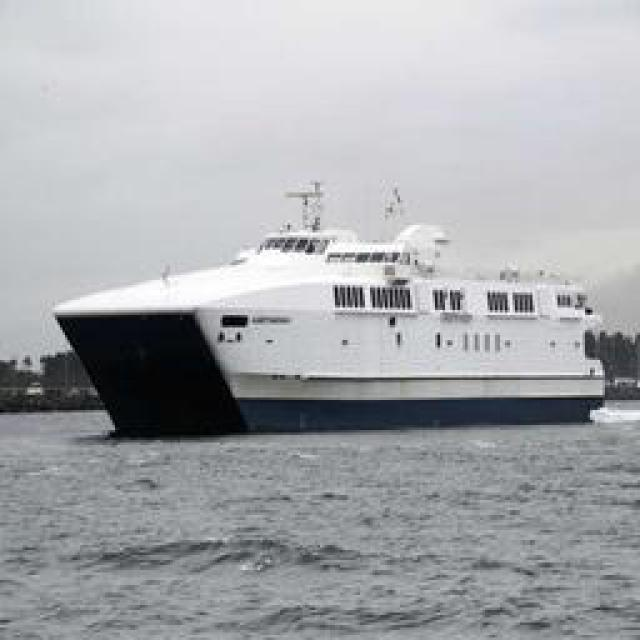Ship: (54, 201, 614, 434)
